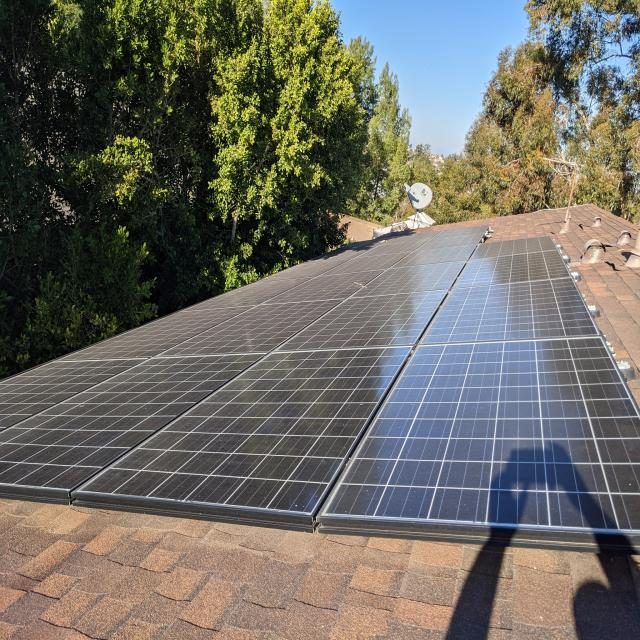dust-solar-panel: (0, 223, 640, 532)
